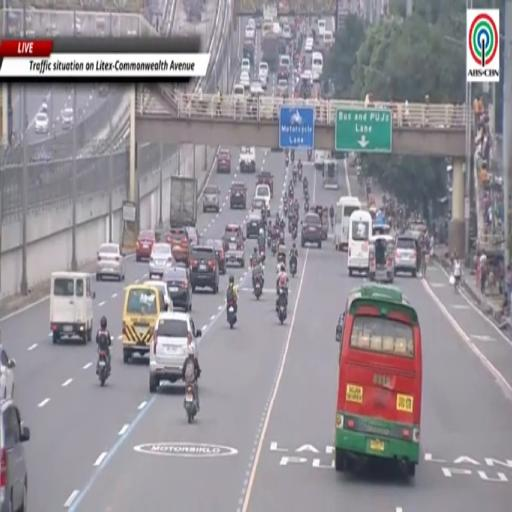bus: (335, 284, 422, 476), (348, 211, 372, 276), (334, 196, 360, 250)
car: (150, 312, 202, 393), (0, 399, 29, 511), (162, 265, 192, 311), (191, 246, 219, 293), (96, 244, 125, 281), (394, 235, 417, 277), (223, 224, 244, 267), (166, 228, 190, 265), (149, 244, 174, 279), (144, 280, 173, 310), (300, 212, 322, 249), (0, 348, 16, 398), (206, 239, 226, 274), (136, 230, 155, 262), (246, 210, 263, 238), (255, 184, 271, 213), (203, 185, 220, 212), (256, 170, 273, 197), (230, 182, 247, 209), (240, 147, 255, 172), (218, 149, 231, 173), (35, 112, 49, 134), (61, 107, 73, 130), (185, 227, 199, 246), (250, 82, 264, 100), (233, 84, 245, 99), (240, 71, 250, 89), (277, 78, 288, 94), (252, 198, 266, 210), (98, 83, 109, 98), (324, 31, 333, 49), (258, 73, 267, 90), (259, 61, 269, 75), (318, 20, 326, 37), (241, 58, 250, 73), (304, 38, 313, 53), (245, 26, 255, 39), (282, 25, 291, 39), (246, 18, 256, 28), (40, 100, 47, 114), (256, 16, 262, 29)
motorcycle: (184, 383, 197, 423), (97, 350, 109, 387), (277, 290, 287, 324), (226, 301, 236, 328), (253, 278, 263, 300), (289, 255, 297, 277), (259, 246, 265, 262), (271, 238, 276, 255), (291, 227, 297, 241), (267, 233, 272, 248), (303, 181, 308, 196), (288, 187, 294, 199), (283, 202, 288, 216), (292, 172, 297, 185), (304, 201, 309, 213), (304, 189, 309, 201), (307, 150, 312, 162), (298, 168, 302, 182), (291, 150, 294, 163), (285, 156, 288, 167)
truck: (170, 176, 197, 228), (262, 34, 279, 72), (243, 38, 254, 65)
